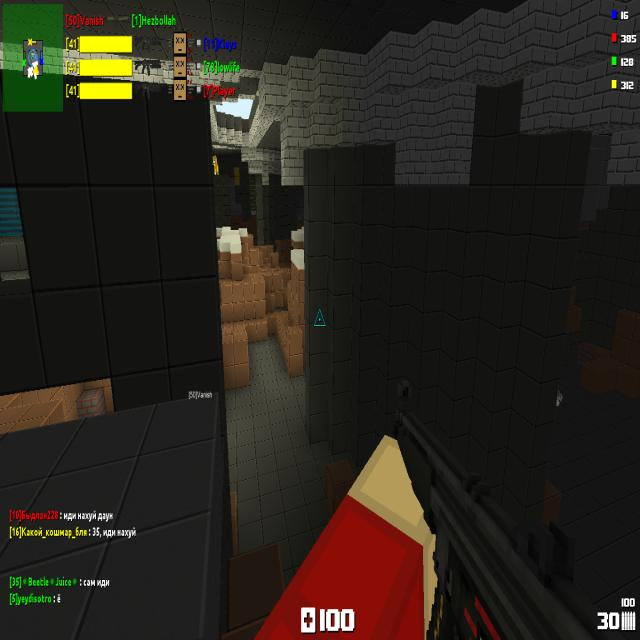enemy: (212, 154, 219, 174)
